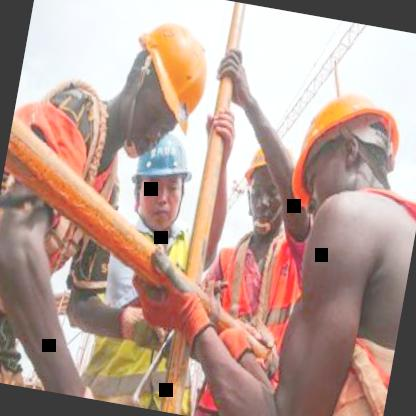helmet: (279, 68, 416, 226), (109, 3, 226, 166), (116, 116, 202, 236), (235, 140, 300, 238)
